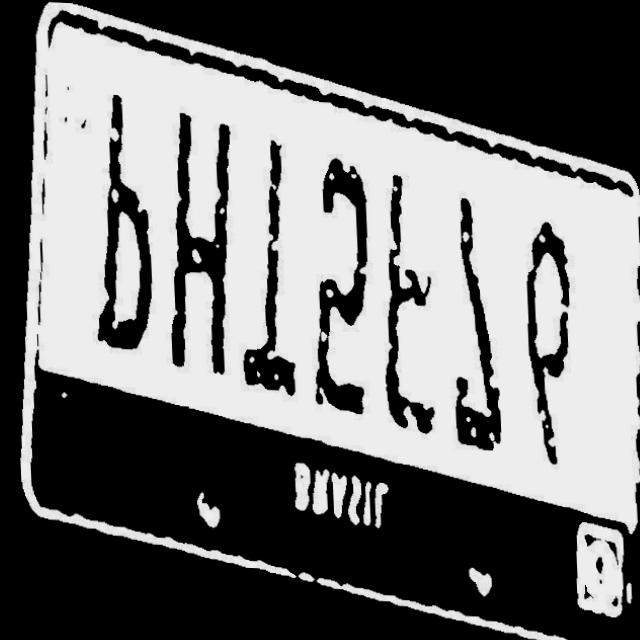5: (299, 154, 384, 418)
6: (510, 208, 576, 478)
7: (437, 190, 505, 457)
f: (371, 160, 449, 450), (228, 127, 299, 398)
h: (149, 108, 244, 382)
p: (75, 84, 158, 359)
